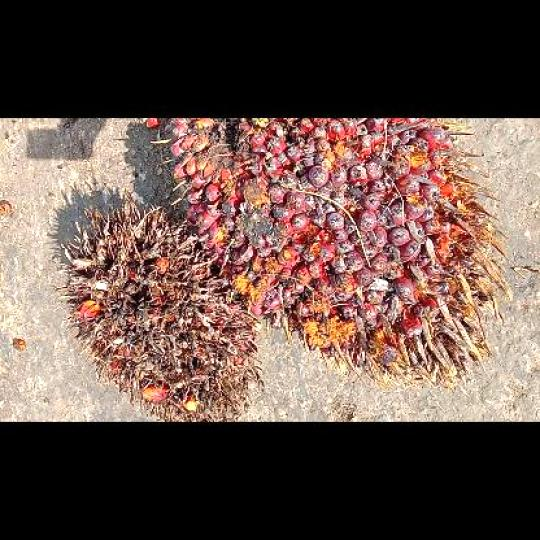masak: (150, 118, 509, 386)
terlalu masak: (54, 200, 263, 420)
